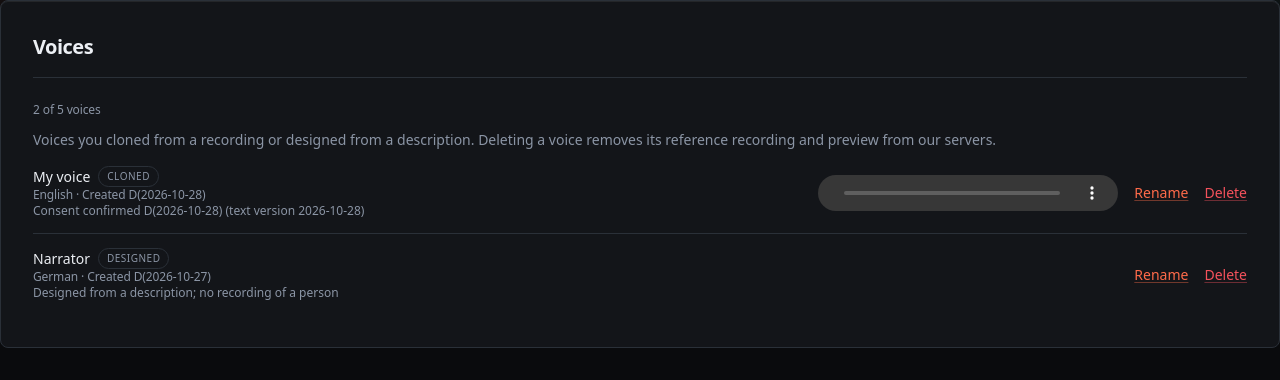
Test case: Account → Voices (MM78) › renames inline with PATCH {name}
Expected: the text "My voice" is shown, [33, 166, 90, 186]
Click the button "Rename" in the row of "My voice". click: (1161, 192)
box: [1134, 182, 1188, 202]
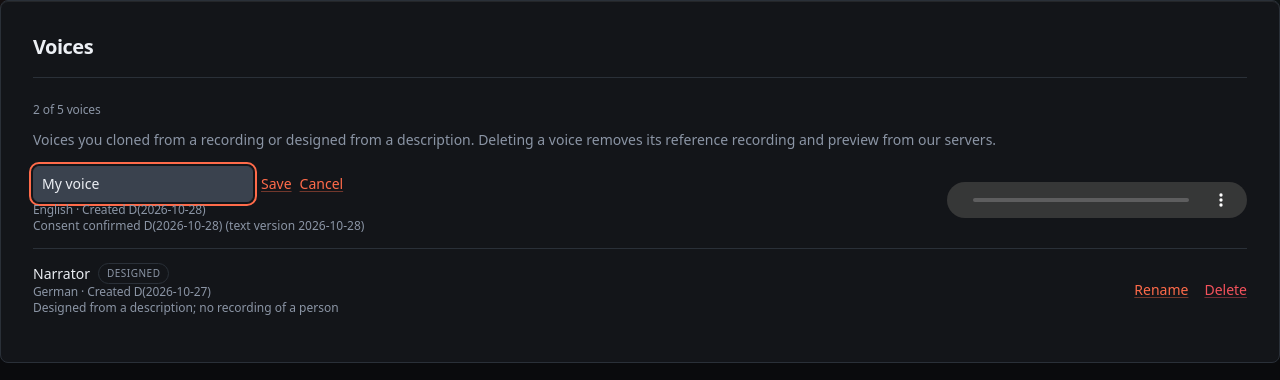
Replace the text in the field named "New name for My voice" with "Studio voice". click: (143, 184)
box: [33, 166, 253, 202]
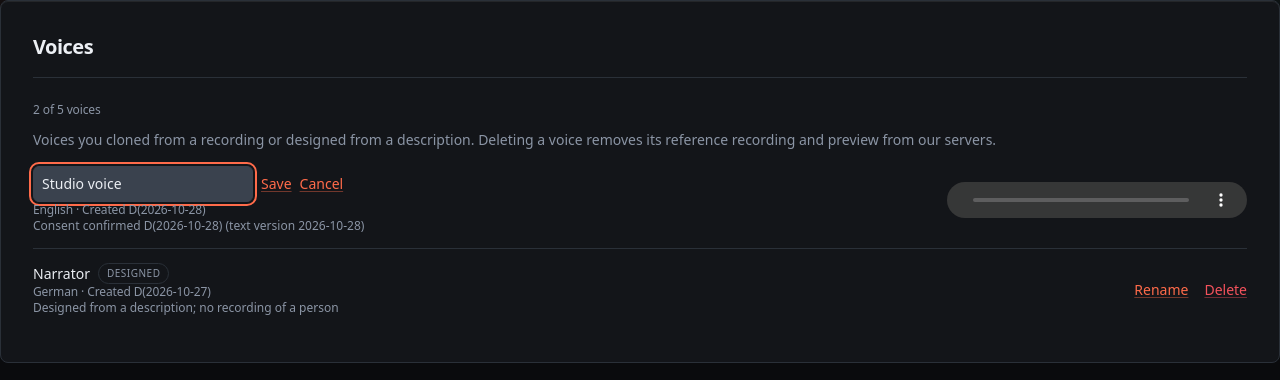
Click the button "Save". click: (276, 184)
box: [261, 174, 292, 194]
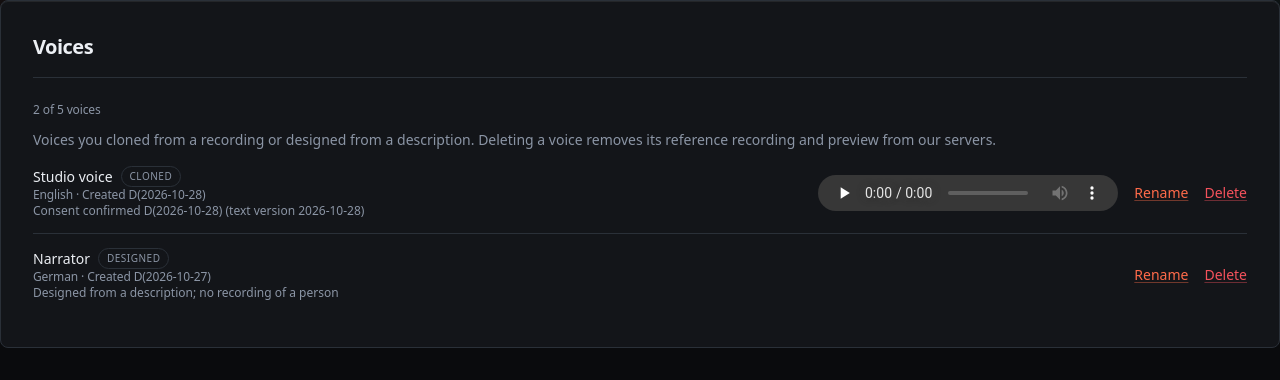
Expected: the text "Studio voice" is shown, [33, 166, 112, 186]
